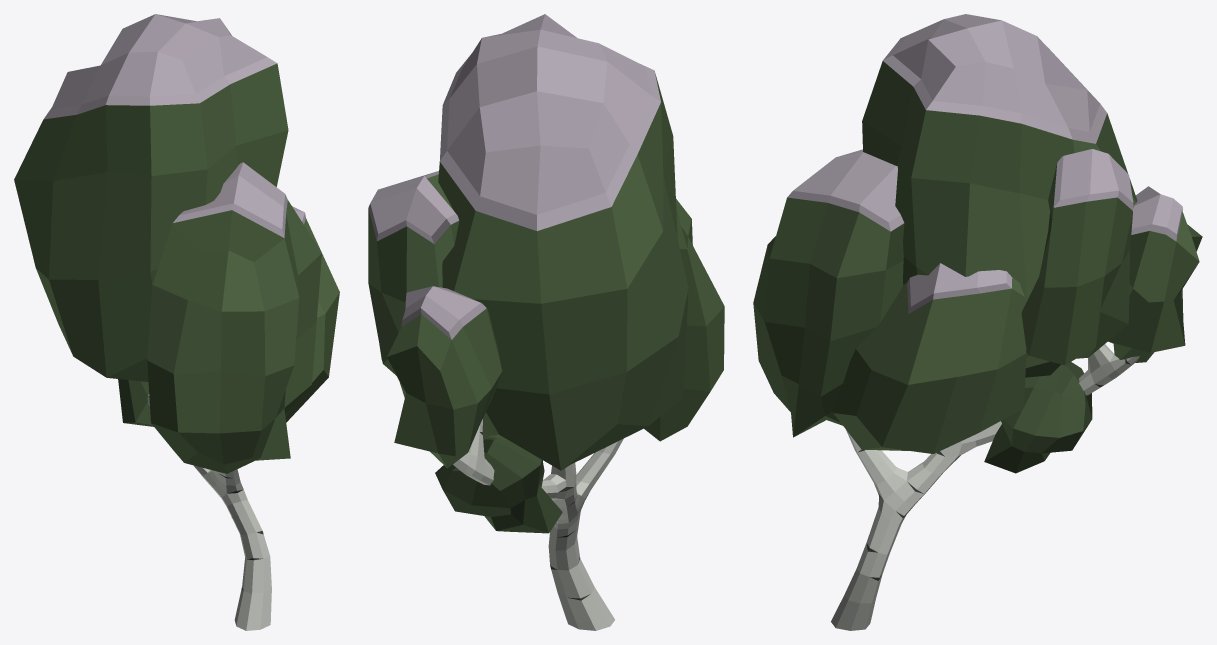
The model's file is BirchTree_Snow_1-transformed.glb.
3 renders of one model, left to right at view 1: azimuth 30°, elevation 25°; view 2: azimuth 150°, elevation 25°; view 3: azimuth 270°, elevation 25°, orthographic. The views are drawn at different scales.
Parts seen in each view (by area): view 1: BirchTree_Snow_1; view 2: BirchTree_Snow_1; view 3: BirchTree_Snow_1.
Part boxes in pixels (left/top/right/bottom): BirchTree_Snow_1: left=14, top=14, right=339, bottom=630; BirchTree_Snow_1: left=368, top=14, right=724, bottom=630; BirchTree_Snow_1: left=753, top=14, right=1202, bottom=630.
Size of the model in its own units: 1.7 by 3.59 by 2.48.
Materials: 1 (1 with a texture image).
